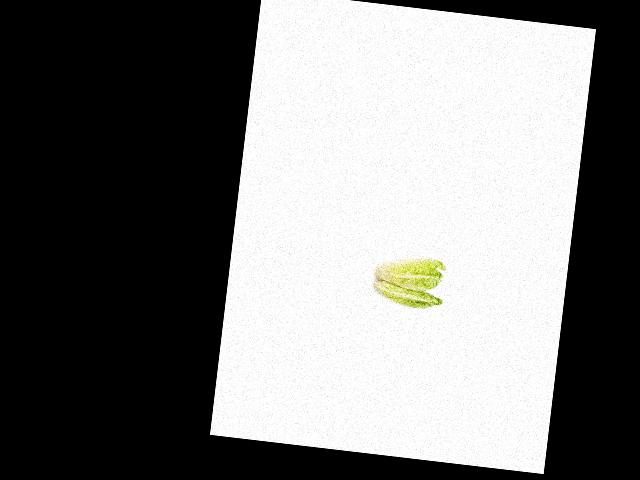lettuce: (366, 277, 445, 318)
